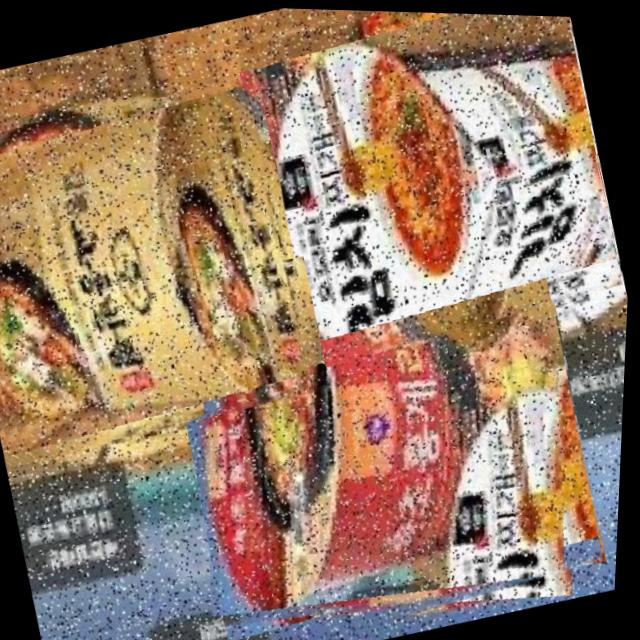Miscellaneous: (145, 193, 630, 640), (248, 6, 640, 372), (0, 71, 326, 472)
